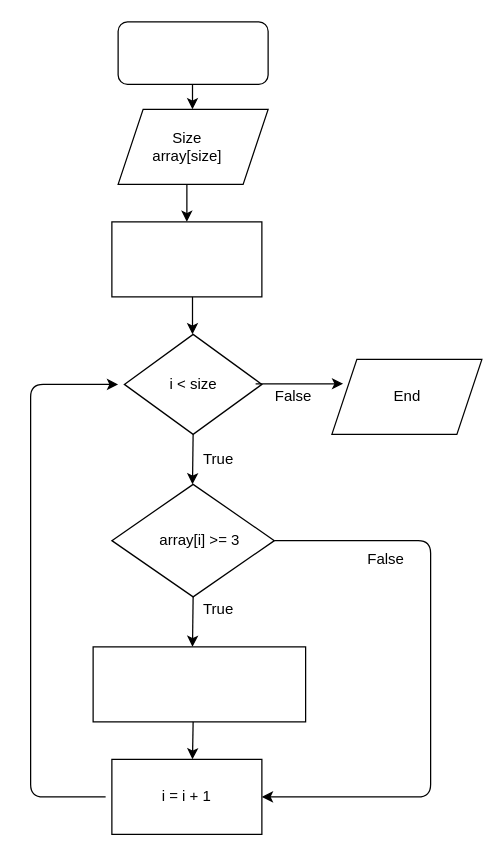
This 504x856 diagram has some shape labels left out. Here are the shapes that lost their labels. From the top down, the centre of each, then its label:
(192,52): Start
(186,259): i = 0 index = 0 array2
(199,684): array2[index] = array[i] index = index + 1
